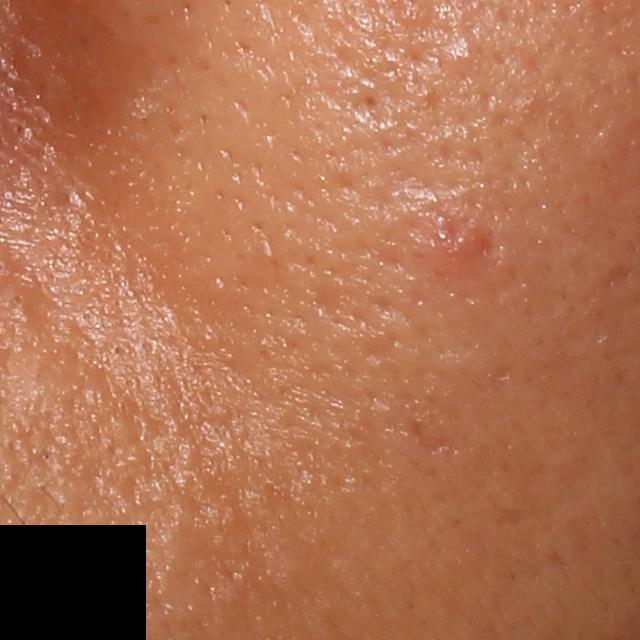atrophic_scar: (403, 417, 453, 459), (598, 263, 636, 292)
